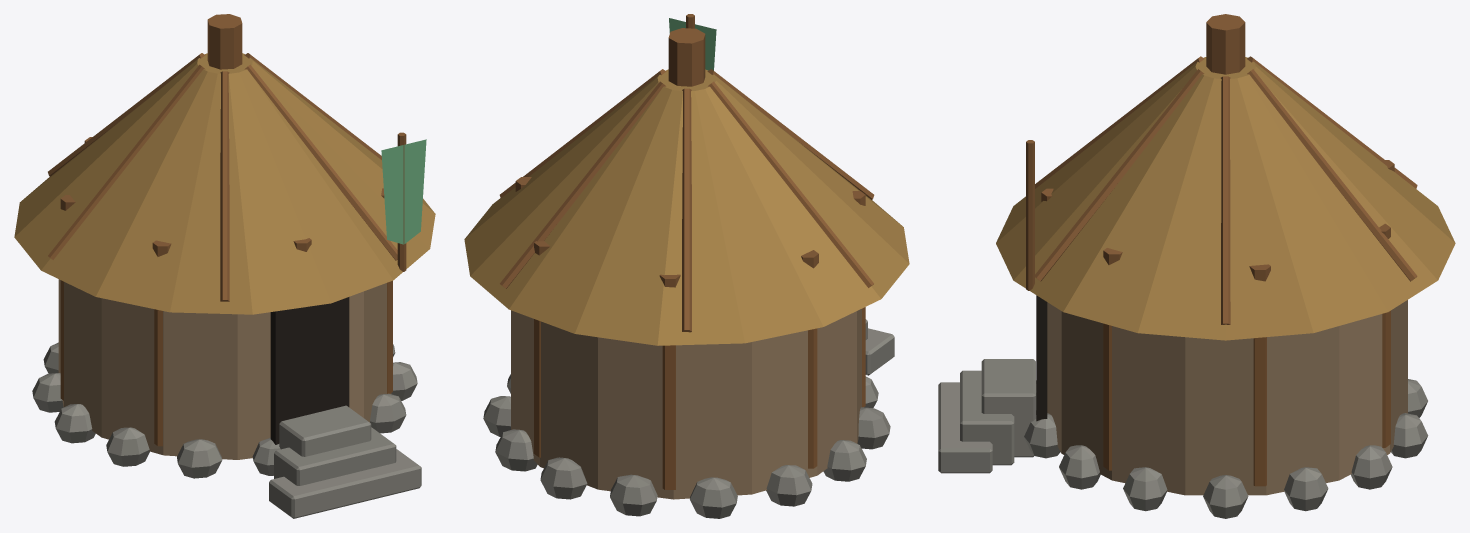
The model's file is edificio-house-e0-BHyf96kc.glb.
3 renders of one model, left to right at view 1: azimuth 30°, elevation 25°; view 2: azimuth 150°, elevation 25°; view 3: azimuth 270°, elevation 25°, orthographic. The views are drawn at different scales.
Visible parts, largest first — view 1: casa_e0_envolvente, casa_e0_detalles, casa_e0_team_color; view 2: casa_e0_envolvente, casa_e0_detalles, casa_e0_team_color; view 3: casa_e0_envolvente, casa_e0_detalles.
Boxes of the visible parts, <box> form: casa_e0_envolvente: <box>14,53,435,518</box>; casa_e0_detalles: <box>48,14,406,446</box>; casa_e0_team_color: <box>381,139,426,244</box>; casa_e0_envolvente: <box>464,69,909,518</box>; casa_e0_detalles: <box>499,14,874,489</box>; casa_e0_team_color: <box>669,18,716,70</box>; casa_e0_envolvente: <box>938,57,1455,518</box>; casa_e0_detalles: <box>1026,14,1417,486</box>.
Bounding box in the file's own units: 42.4 × 42.5 × 47.7.
